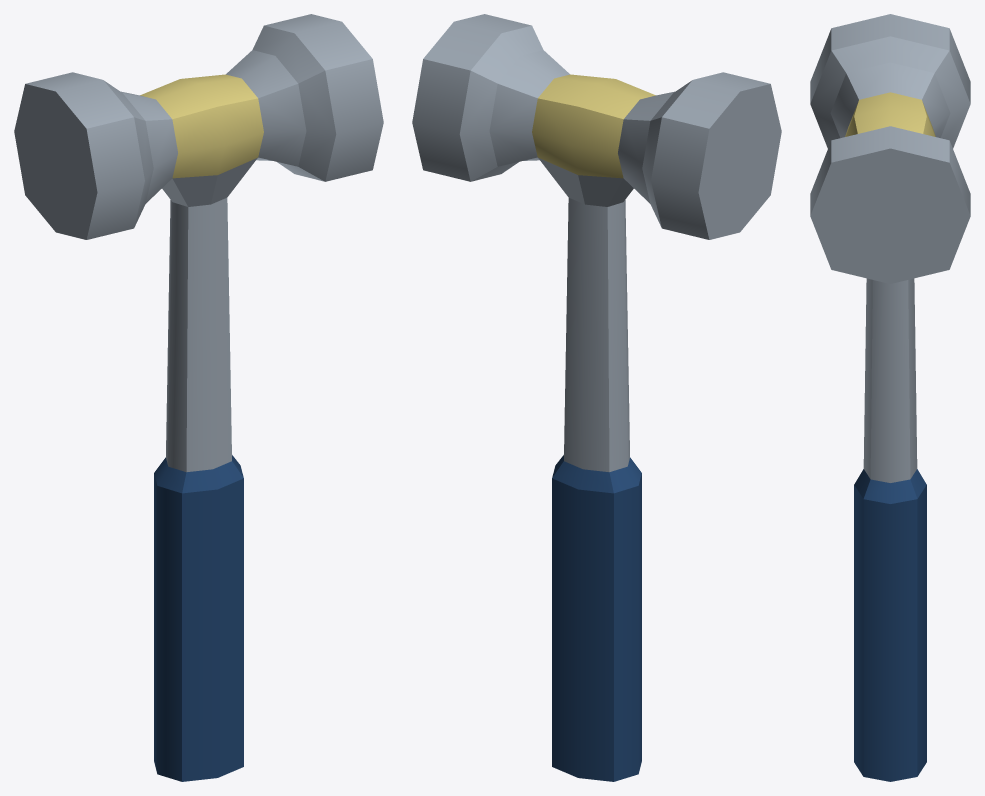
The model's file is Lab2.Hammer.MapExport.fbx.
3 views of the same model, side by side, from view 1: azimuth 30°, elevation 25°; view 2: azimuth 150°, elevation 25°; view 3: azimuth 270°, elevation 25° (orthographic). The views are drawn at different scales.
Visible parts, largest first — view 1: pCube3; view 2: pCube3; view 3: pCube3.
Part boxes in pixels (bbox=[...]): pCube3: bbox=[14, 14, 383, 781]; pCube3: bbox=[412, 14, 781, 781]; pCube3: bbox=[810, 14, 970, 781].
Bounding box in the file's own units: 4.37 × 10.33 × 2.21.
